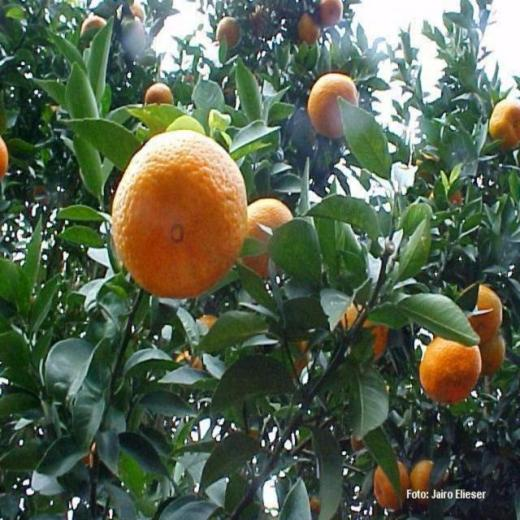Grape: (110, 129, 249, 300)
